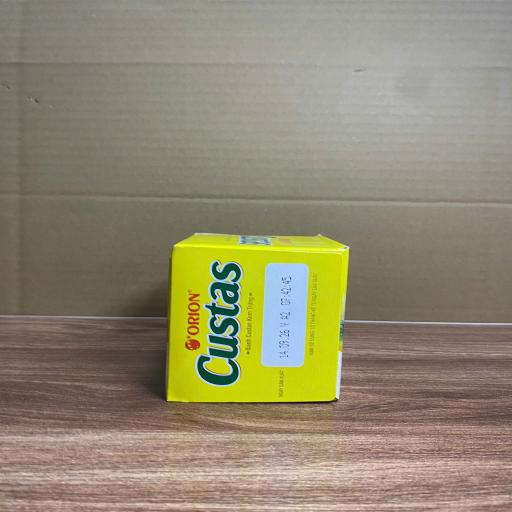custas: (165, 233, 350, 402)
